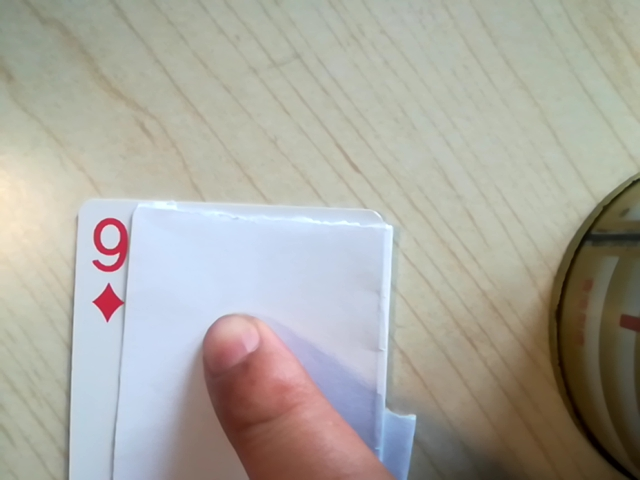fk 9: (82, 212, 139, 324)
